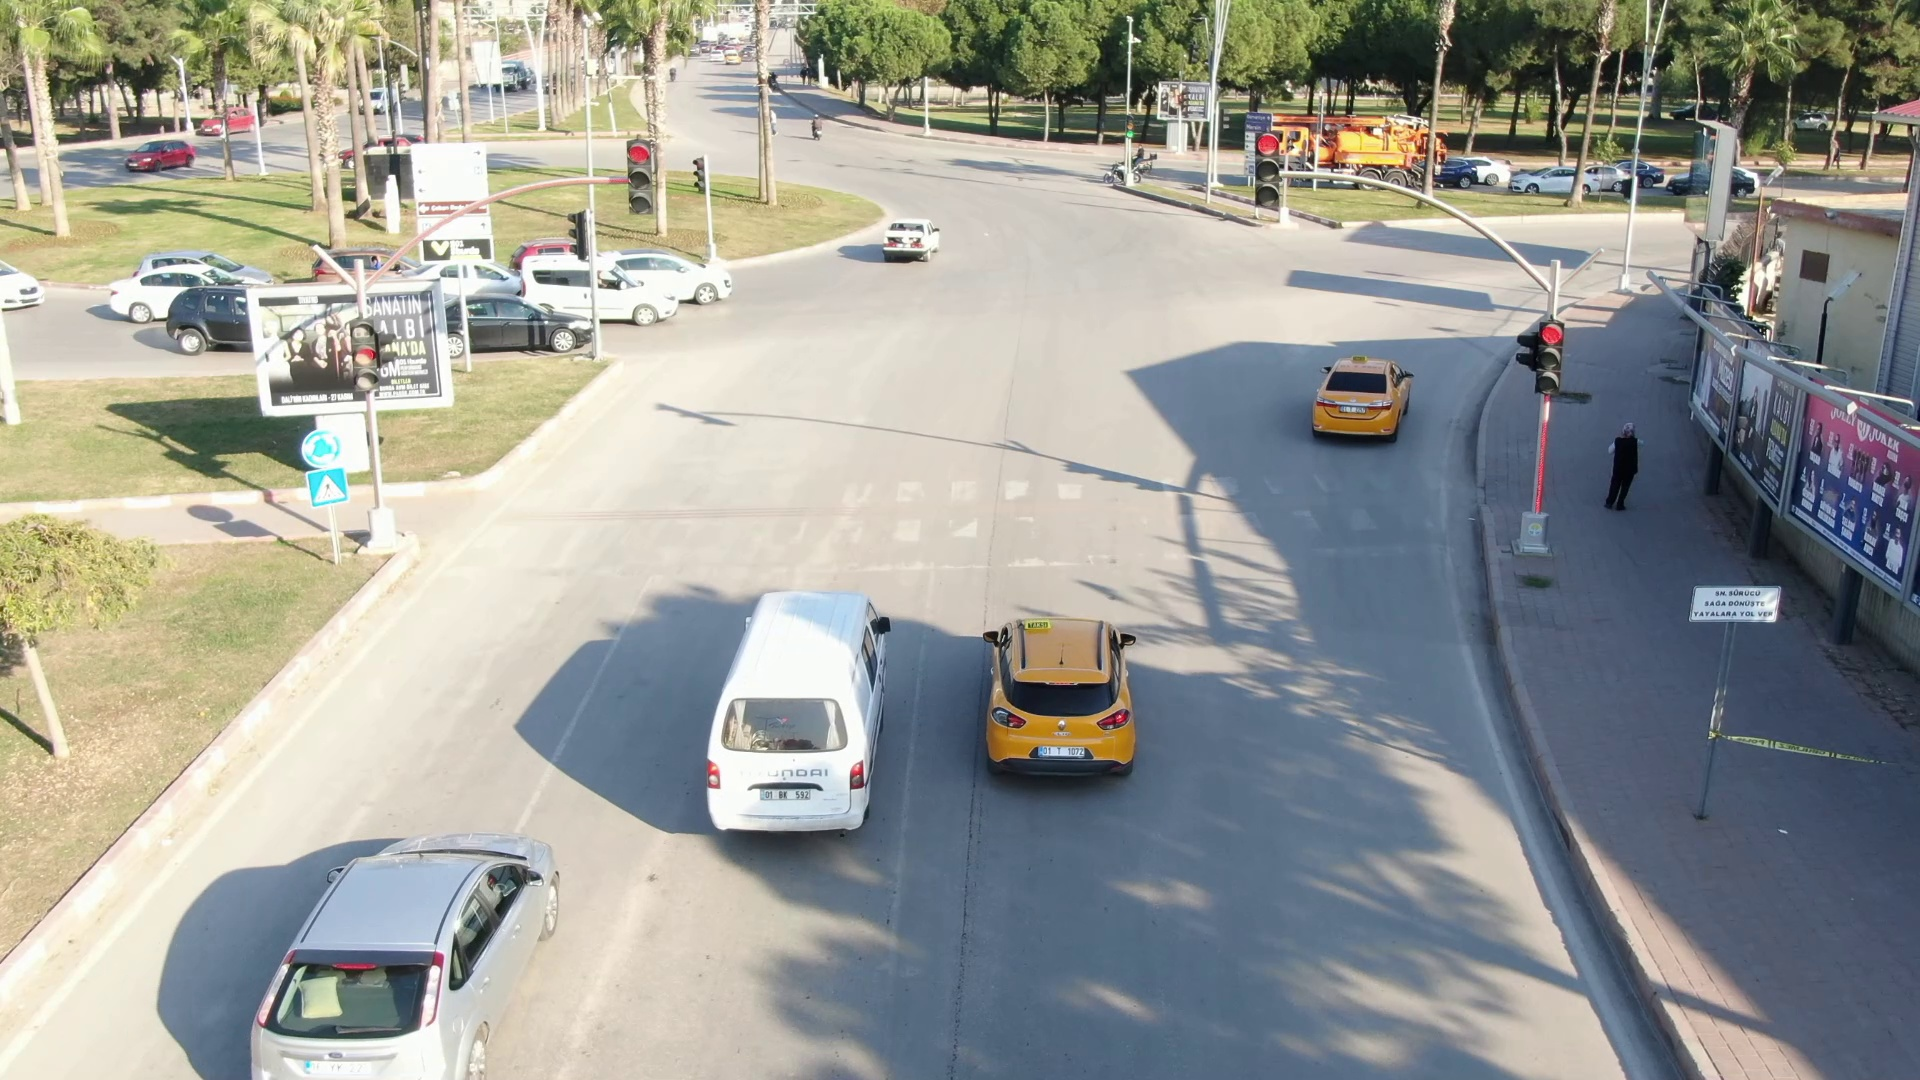car: (233, 827, 579, 1080), (698, 572, 914, 855), (976, 608, 1159, 784), (427, 278, 608, 366), (519, 247, 682, 327), (1308, 357, 1433, 441), (606, 243, 751, 312), (96, 259, 274, 314), (166, 288, 292, 355), (878, 204, 972, 284)
person: (1586, 419, 1659, 512)
